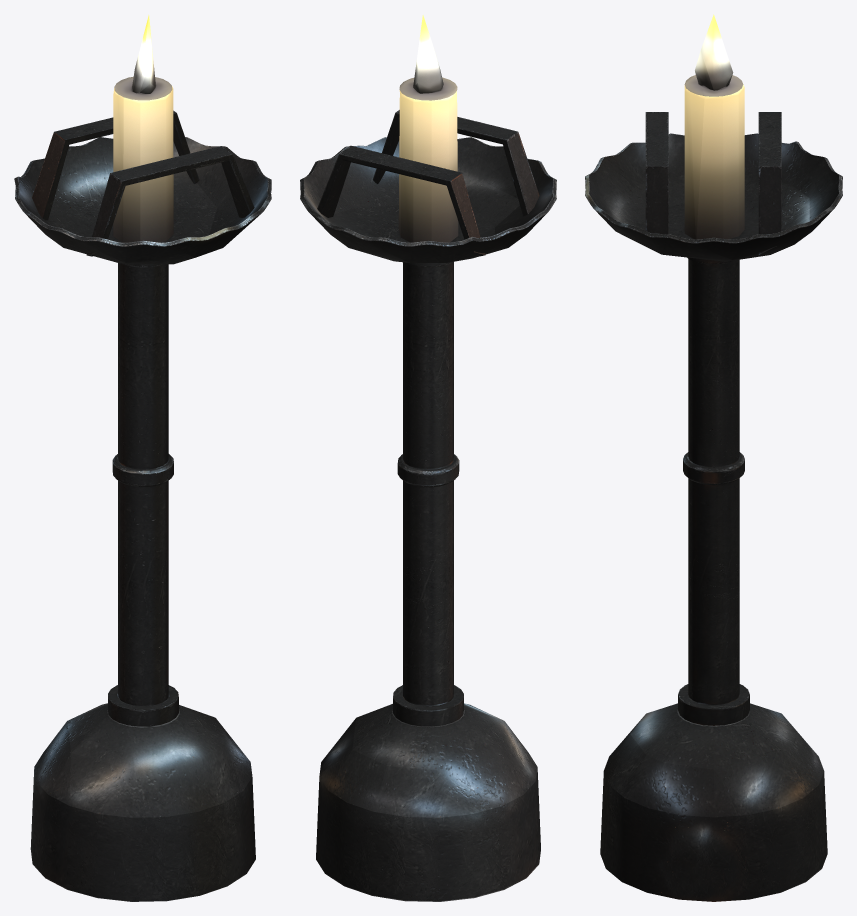
Rendered from NNJ0410020.fbx.
3 views of the same model, side by side, from view 1: azimuth 30°, elevation 25°; view 2: azimuth 150°, elevation 25°; view 3: azimuth 270°, elevation 25° (orthographic).
Parts seen in each view (by area): view 1: smNNJ0410020; view 2: smNNJ0410020; view 3: smNNJ0410020.
Part boxes in pixels (box(x1,y1,x2,y2)): smNNJ0410020: box(14, 15, 271, 901); smNNJ0410020: box(300, 15, 556, 901); smNNJ0410020: box(585, 14, 842, 901).
Size of the model in its own units: 39.29 by 139 by 38.7.
Materials: 1 (1 with a texture image).
